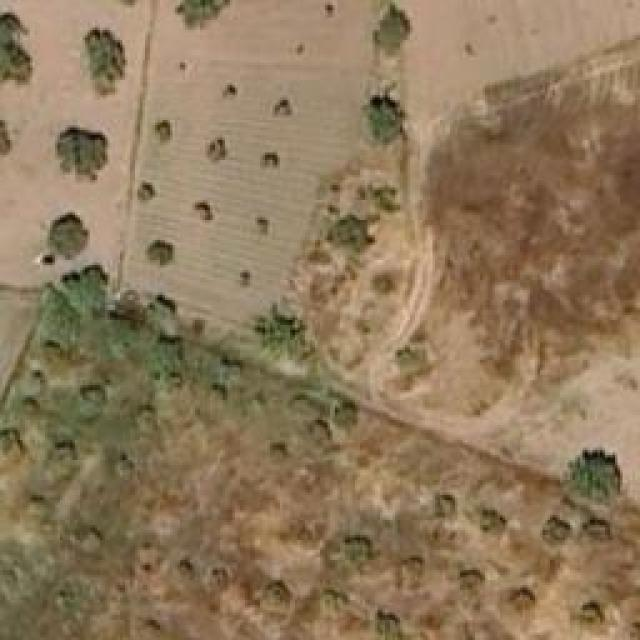Tree: (55, 128, 110, 183), (568, 450, 623, 505), (85, 25, 125, 95), (42, 213, 90, 266), (255, 305, 305, 355), (365, 90, 408, 143), (0, 12, 32, 82), (328, 210, 373, 253), (372, 5, 410, 55), (170, 0, 233, 28), (260, 580, 293, 618), (372, 610, 410, 640), (373, 185, 406, 218), (75, 378, 105, 411), (505, 583, 535, 616), (542, 513, 570, 548), (477, 503, 505, 536), (343, 533, 373, 563), (130, 405, 161, 433), (578, 603, 606, 634), (47, 435, 75, 465), (455, 565, 485, 593), (78, 528, 106, 557), (265, 438, 294, 466), (308, 413, 333, 443), (435, 493, 460, 523), (0, 430, 24, 461), (108, 450, 135, 477), (333, 403, 360, 430), (147, 240, 175, 265), (205, 385, 230, 411), (585, 515, 610, 540), (162, 370, 184, 396), (208, 138, 228, 163), (273, 98, 296, 118), (190, 203, 213, 223), (155, 120, 173, 143), (137, 183, 155, 206), (260, 152, 280, 170), (223, 82, 238, 100), (255, 217, 270, 235)
